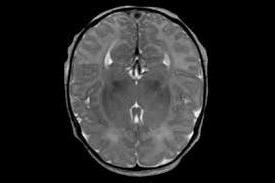Normal_Brain: (27, 1, 242, 183)
